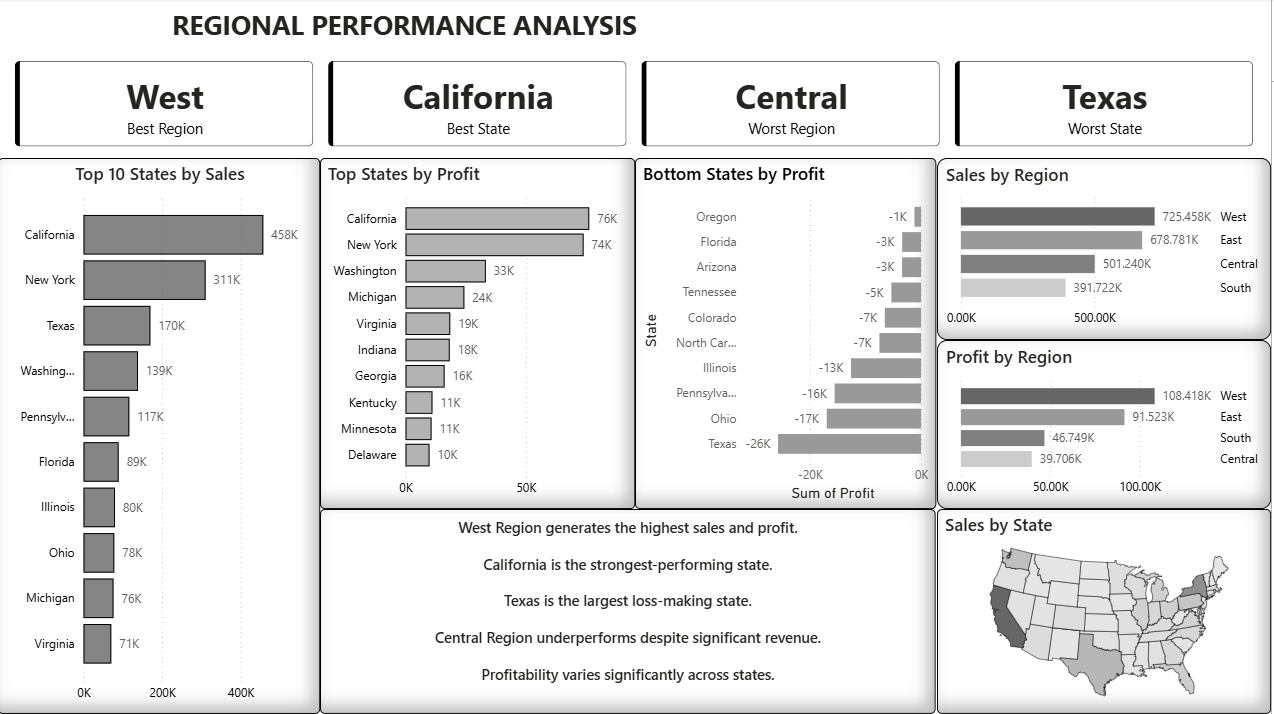

What the dashboard file says about the page in this screenshot:
{"tool":"powerbi","page":{"name":"Regional Performance","canvas":[1280,720],"ordinal":3},"visuals":[{"type":"textbox","box":[169.9,3,480.6,52.3],"z":0},{"type":"cardVisual","fields":{"Data":["sales_data.Best Region","sales_data.Best State","sales_data.Worst Region","sales_data.Worst State"]},"box":[0,46.3,1280,120.7],"z":1000},{"type":"clusteredBarChart","title":"Sales by Region","fields":{"Y":["Sum(sales_data.Sales)"],"Category":["sales_data.Region"]},"box":[944.2,160.9,335.8,183],"z":2000},{"type":"clusteredBarChart","title":"Profit by Region","fields":{"Y":["Sum(sales_data.Profit)"],"Category":["sales_data.Region"]},"box":[944.2,343.9,335.8,169.9],"z":3000},{"type":"barChart","title":"Top 10 States by Sales","fields":{"Y":["Sum(sales_data.Sales)"],"Category":["sales_data.State"]},"box":[0,160.9,323.8,559.1],"z":4000},{"type":"barChart","title":"Top States by Profit","fields":{"Y":["Sum(sales_data.Profit)"],"Category":["sales_data.State"]},"box":[323.8,160.9,316.7,352.9],"z":5000},{"type":"barChart","title":"Bottom States by Profit","fields":{"Y":["Sum(sales_data.Profit)"],"Category":["sales_data.State"]},"box":[640.5,160.9,302.7,352.9],"z":6000},{"type":"shapeMap","title":"Sales by State","fields":{"Category":["sales_data.State"],"Value":["Sum(sales_data.Sales)"]},"box":[944,514.2,336.4,205.8],"z":7000},{"type":"textbox","box":[323.7,514.2,619.3,205.8],"z":8000}]}

Visuals, with their boxes in screenshot pixels (x1, y1, x2, y2), scaled from the page's 1280x720 canvas onto the 1274x714 screenshot:
textbox: 169:3:647:55
cardVisual - sales_data.Best Region x sales_data.Best State: 0:46:1273:166
"Sales by Region" clusteredBarChart: 940:160:1273:341
"Profit by Region" clusteredBarChart: 940:341:1273:510
"Top 10 States by Sales" barChart: 0:160:322:713
"Top States by Profit" barChart: 322:160:637:510
"Bottom States by Profit" barChart: 637:160:939:510
"Sales by State" shapeMap: 940:510:1273:713
textbox: 322:510:939:713
